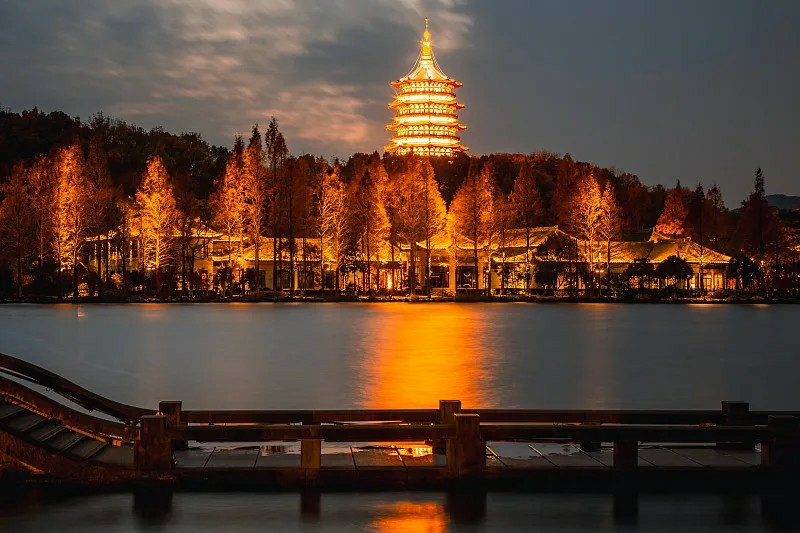Leifeng: (385, 15, 470, 161)
